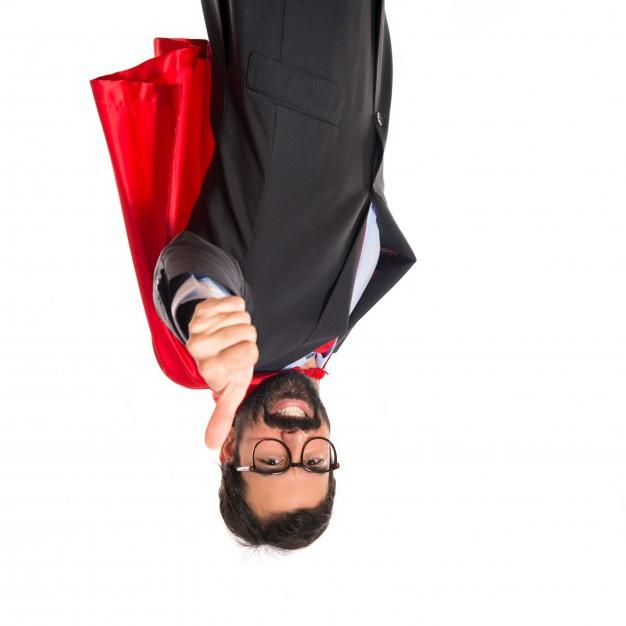thumbsdown: (185, 296, 259, 450)
